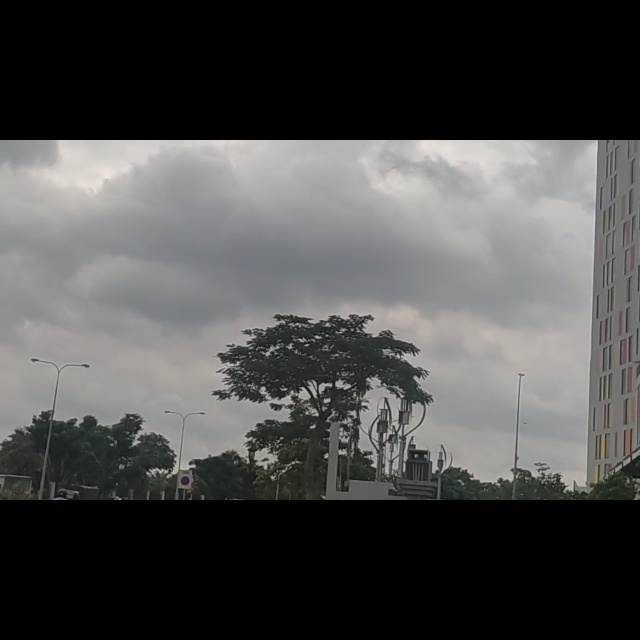bien_cam: (181, 595, 190, 616)
